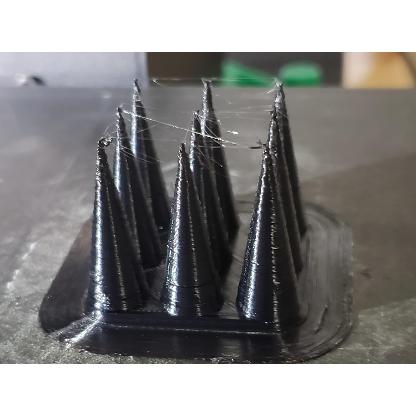fail: (121, 72, 203, 152), (214, 78, 276, 156)
